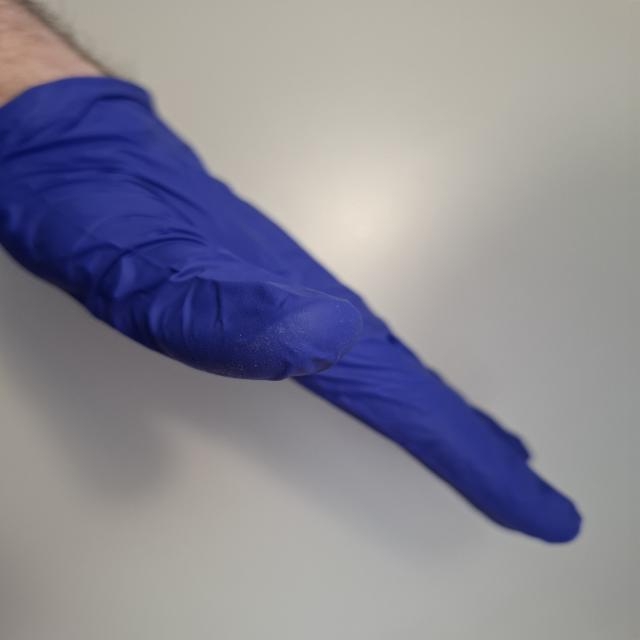glove_on: (0, 69, 589, 550)
